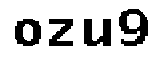9: (116, 6, 154, 53)
o: (11, 16, 42, 51)
u: (80, 16, 114, 51)
z: (46, 17, 74, 52)
